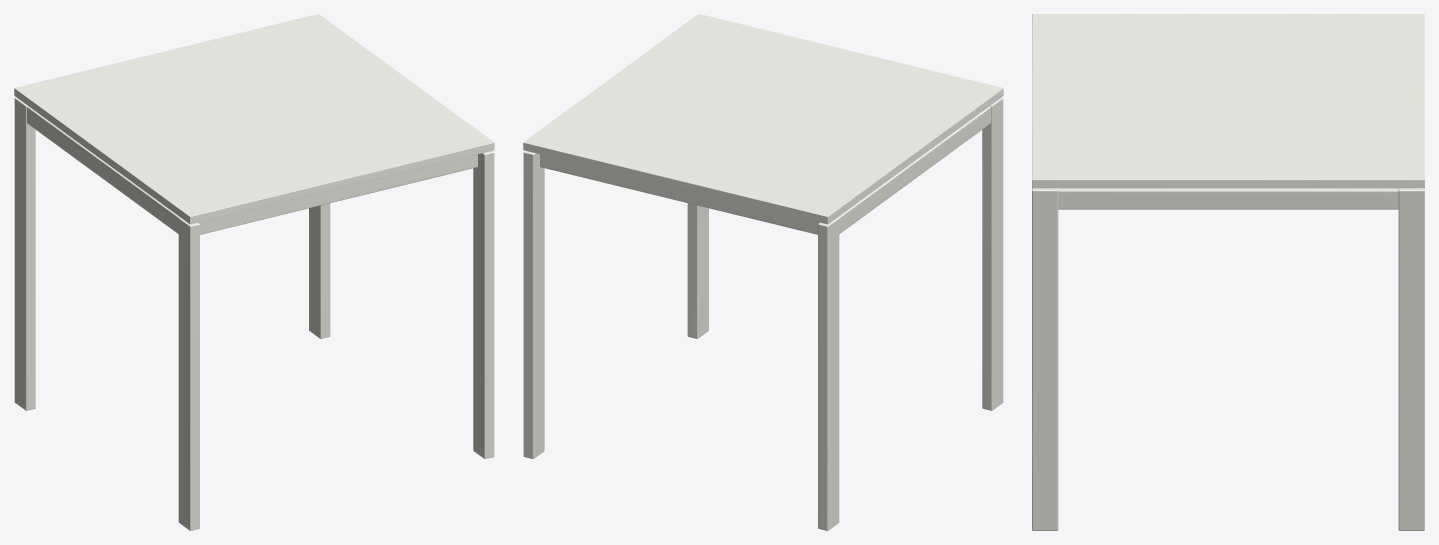
File: MELLTORP Tisch - weiß.glb
3 renders of one model, left to right at view 1: azimuth 30°, elevation 25°; view 2: azimuth 150°, elevation 25°; view 3: azimuth 270°, elevation 25°, orthographic. The views are drawn at different scales.
Size of the model in its own units: 0.75 by 0.74 by 0.75.
1 material, 1 textured.
